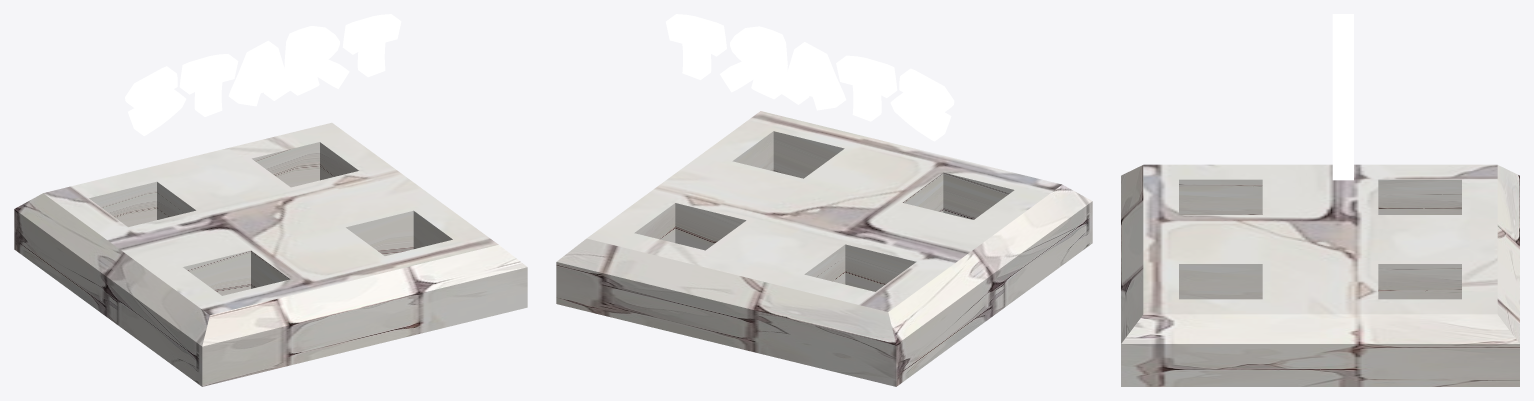
Rendered from hatch.glb.
3 renders of one model, left to right at view 1: azimuth 30°, elevation 25°; view 2: azimuth 150°, elevation 25°; view 3: azimuth 270°, elevation 25°, orthographic. The views are drawn at different scales.
Parts seen in each view (by area): view 1: hatch; view 2: hatch; view 3: hatch.
Boxes of the visible parts, left/top/right/bottom form: hatch: left=14, top=14, right=527, bottom=386; hatch: left=556, top=14, right=1092, bottom=386; hatch: left=1121, top=14, right=1519, bottom=386.
Size of what is drawn, in the model's own units: 3.07 by 2.05 by 3.07.
2 materials, 1 textured.
